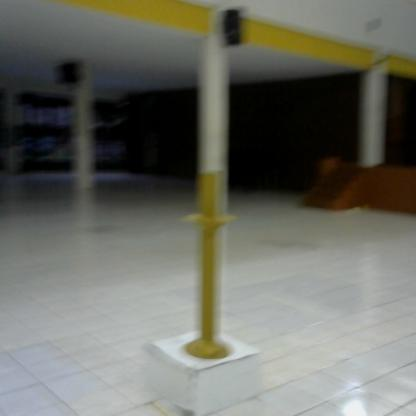pole: (174, 165, 238, 370)
